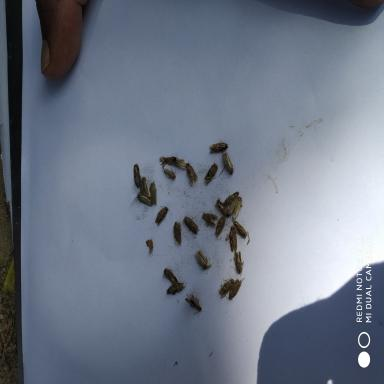pbw: (228, 277, 245, 300), (228, 196, 244, 218), (218, 276, 234, 298), (222, 151, 235, 178), (161, 267, 179, 286), (155, 206, 173, 225), (230, 250, 244, 274), (204, 162, 218, 184), (195, 249, 210, 269), (232, 220, 248, 238), (186, 162, 198, 186), (183, 216, 199, 234), (222, 191, 241, 206), (166, 282, 186, 296), (209, 140, 229, 154), (172, 220, 182, 246), (216, 199, 230, 217), (148, 180, 158, 205), (215, 216, 226, 238), (229, 225, 237, 253), (140, 176, 150, 197), (202, 213, 217, 227), (133, 162, 141, 188), (162, 166, 176, 180), (135, 193, 150, 206), (174, 156, 186, 168)
